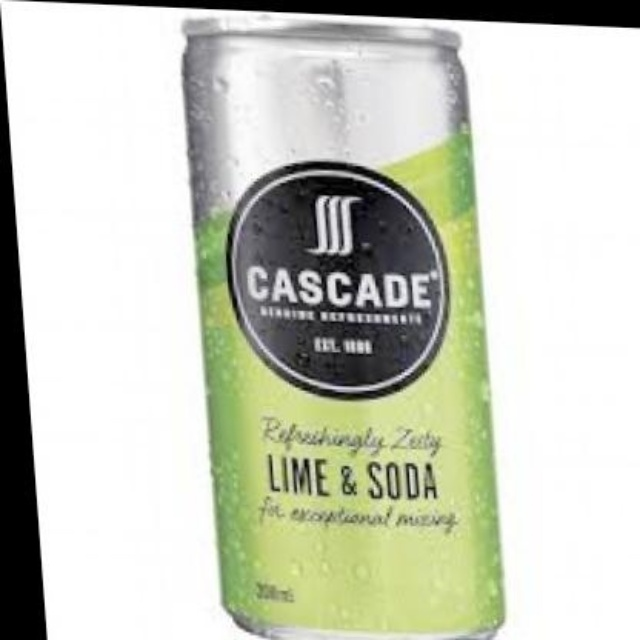trash: (185, 22, 502, 638)
